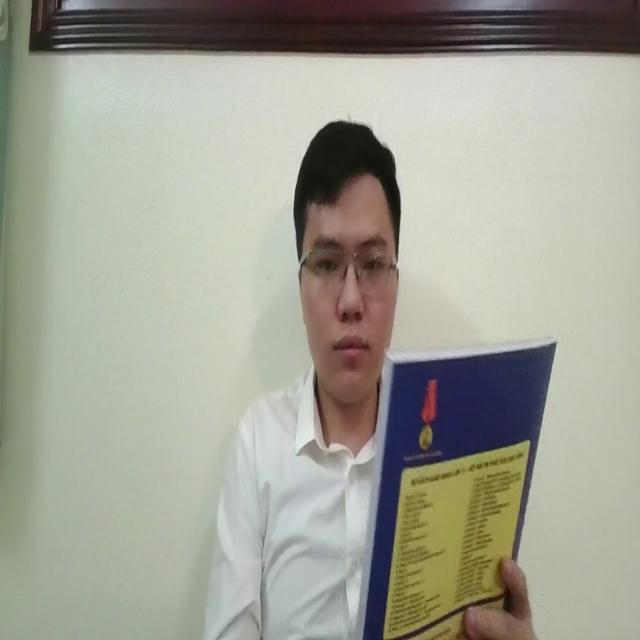book: (364, 332, 556, 640)
student: (203, 117, 405, 640)
